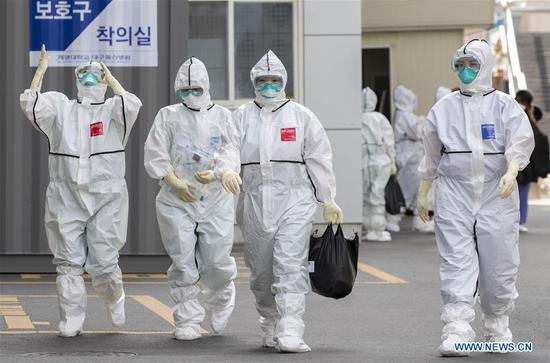Coverall: (419, 39, 531, 335), (24, 91, 139, 328), (145, 59, 237, 333), (234, 50, 324, 329)
Gloves: (27, 42, 51, 96), (413, 176, 436, 224), (164, 171, 197, 202), (100, 61, 127, 94), (498, 164, 521, 200), (221, 168, 244, 197), (194, 163, 218, 188), (321, 199, 342, 224)
Goggles: (449, 53, 484, 73), (253, 74, 286, 90), (176, 85, 203, 100)
with_mask: (455, 57, 483, 84), (256, 74, 283, 99)
